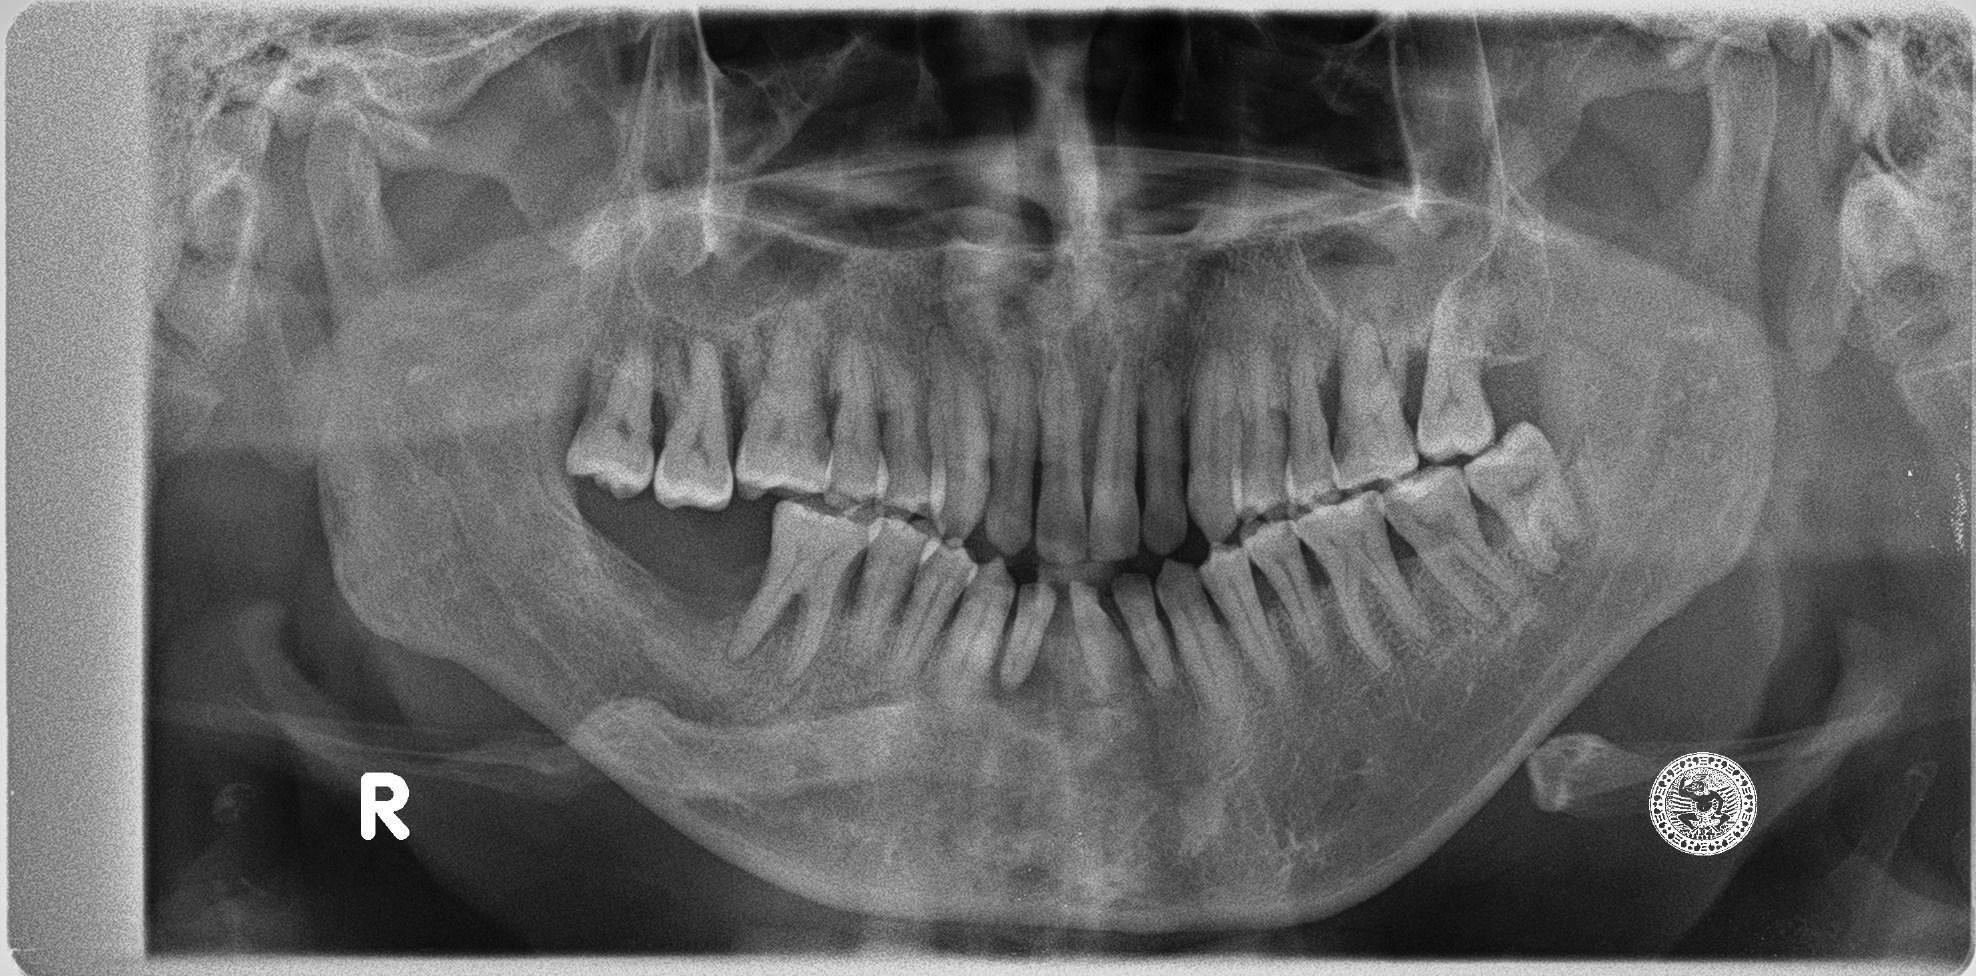Individual Tooth: (1285, 492, 1432, 670), (728, 501, 870, 672), (1382, 468, 1522, 623), (1464, 422, 1578, 570), (1157, 562, 1248, 741), (738, 318, 830, 491), (1416, 277, 1495, 463), (1332, 322, 1416, 487), (883, 538, 978, 685), (934, 303, 992, 541), (653, 343, 733, 509), (1198, 543, 1290, 688), (567, 346, 654, 497), (1243, 520, 1330, 667), (851, 520, 939, 665), (933, 562, 1017, 706), (1190, 317, 1243, 542), (1037, 332, 1088, 564), (1089, 339, 1140, 562), (824, 340, 888, 520), (984, 358, 1040, 555), (1234, 325, 1287, 518), (1140, 364, 1188, 555), (1285, 354, 1340, 506), (883, 359, 933, 512), (1111, 574, 1176, 690), (998, 580, 1056, 690)
